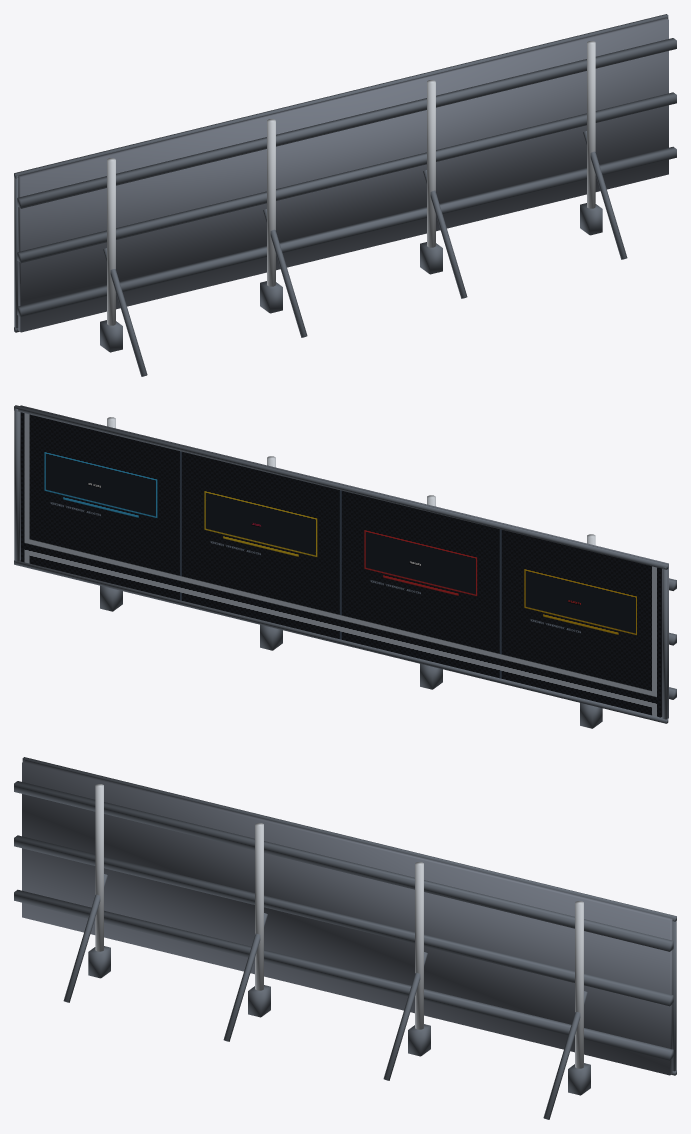
Rendered from photorealistic_sponsor_billboard.glb.
The picture shows the model from 3 angles, top to bottom: view 1: azimuth 30°, elevation 25°; view 2: azimuth 150°, elevation 25°; view 3: azimuth 330°, elevation 25°; orthographic projection.
Visible parts, largest first — view 1: BackingPlate, TrussTop, TrussMid, TrussBot, TrimTop, UprightPylon_-3.0, UprightPylon_-1.0, UprightPylon_1.0, UprightPylon_3.0, Gusset_-1.0, Gusset_1.0, Gusset_3.0 (+6 smaller); view 2: BillboardDisplayFace, TrimTop, TrimBot, BackingPlate, TrimRight, TrimLeft, BarrierClamp_1.0, BarrierClamp_3.0, BarrierClamp_-1.0, BarrierClamp_-3.0; view 3: BackingPlate, TrussTop, TrussMid, TrussBot, TrimTop, UprightPylon_3.0, UprightPylon_-1.0, UprightPylon_1.0, UprightPylon_-3.0, Gusset_-1.0, Gusset_-3.0, Gusset_1.0 (+6 smaller).
Boxes of the visible parts, x1,y1,x2,y2 form: BackingPlate: (18,17,668,332); TrussTop: (17,38,676,208); TrussMid: (17,92,676,263); TrussBot: (17,146,676,317); TrimTop: (14,14,668,178); UprightPylon_-3.0: (107,158,115,325); UprightPylon_-1.0: (267,119,275,286); UprightPylon_1.0: (427,80,435,247); UprightPylon_3.0: (587,41,595,208); Gusset_-1.0: (263,209,307,337); Gusset_1.0: (423,170,467,298); Gusset_3.0: (583,131,627,259); BillboardDisplayFace: (21,412,661,717); TrimTop: (14,405,668,569); TrimBot: (14,560,668,723); BackingPlate: (20,405,668,718); TrimRight: (14,408,20,563); TrimLeft: (662,567,667,719); BarrierClamp_1.0: (260,624,282,650); BarrierClamp_3.0: (100,585,122,611); BarrierClamp_-1.0: (420,664,442,689); BarrierClamp_-3.0: (580,703,602,728); BackingPlate: (22,760,672,1075); TrussTop: (14,781,673,951); TrussMid: (14,835,673,1006); TrussBot: (14,889,673,1060); TrimTop: (22,757,676,921); UprightPylon_3.0: (575,901,583,1068); UprightPylon_-1.0: (255,823,263,990); UprightPylon_1.0: (415,862,423,1029); UprightPylon_-3.0: (95,784,103,951); Gusset_-1.0: (223,913,267,1041); Gusset_-3.0: (63,874,107,1002); Gusset_1.0: (383,952,427,1080).
Bounding box in the file's own units: 8.2 × 2.31 × 0.9845.
Materials: 4 (1 with a texture image).
